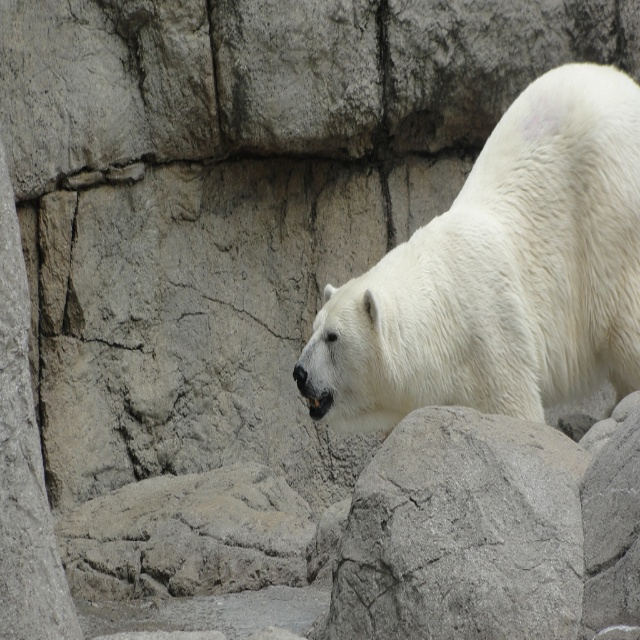Polar bear: (290, 55, 640, 428)
